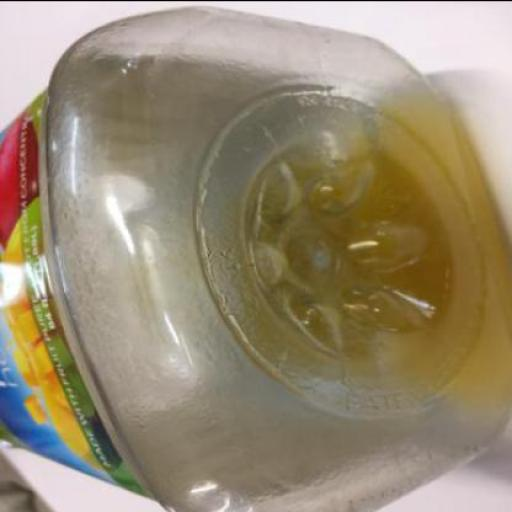plastic: (0, 6, 512, 511)
